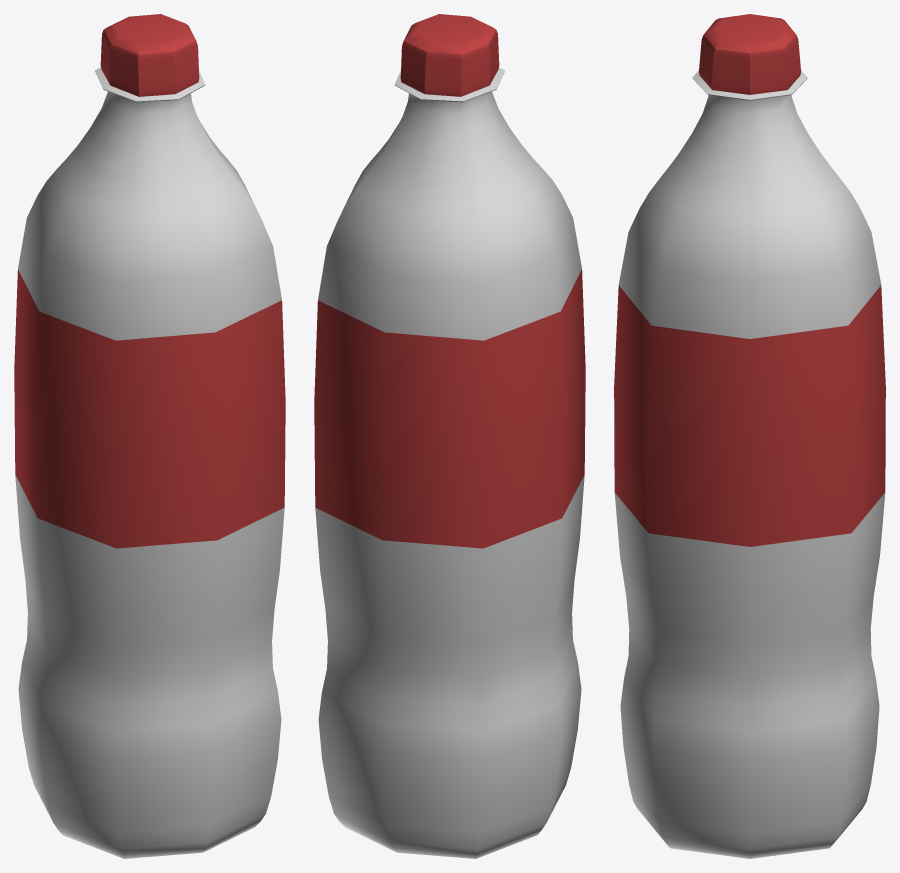
The model's file is plastic1.glb.
3 renders of one model, left to right at view 1: azimuth 30°, elevation 25°; view 2: azimuth 150°, elevation 25°; view 3: azimuth 270°, elevation 25°, orthographic.
Visible parts, largest first — view 1: pCube3; view 2: pCube3; view 3: pCube3.
Part boxes in pixels (box(x1,y1,x2,y2)): pCube3: box(14, 14, 285, 858); pCube3: box(314, 14, 585, 858); pCube3: box(614, 14, 885, 858).
Size of the model in its own units: 0.0303 by 0.1005 by 0.0313.
